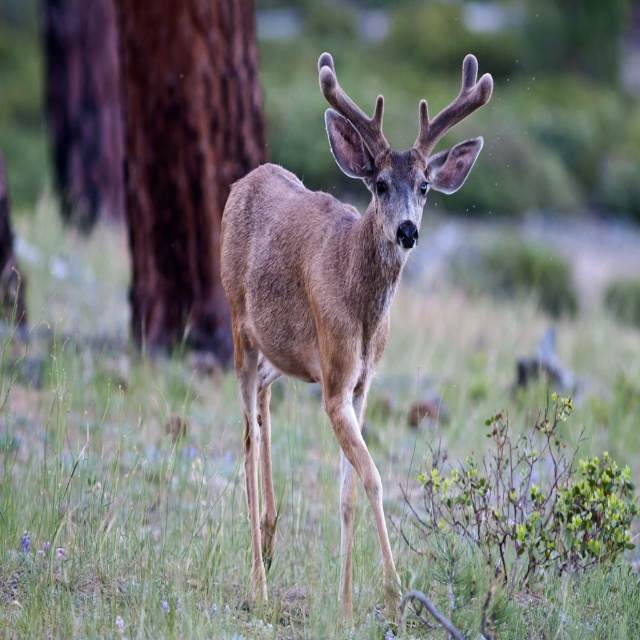Deer: (220, 52, 493, 631)
